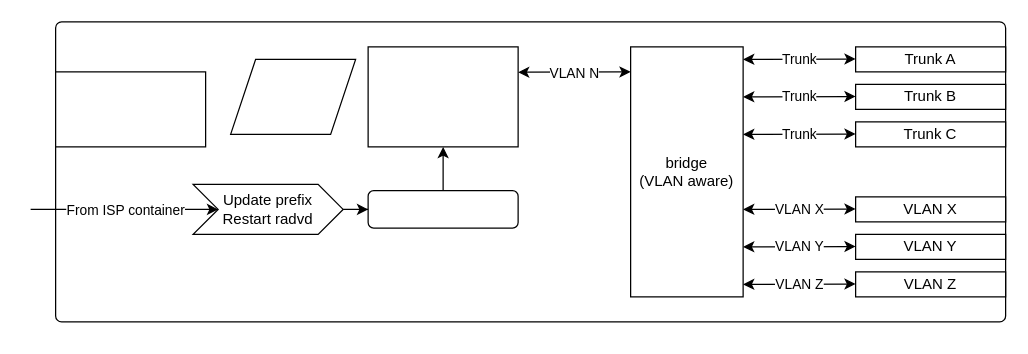
The diagram is 1028 pixels wide and 354 high, and some of its shapes have lost their labels. The box of each missing label's shape, as (x1, y1, x2, y2) in pixels:
isp_in macvlan / internal No assigned IPv4 Dynamic IPv6 GUA: (54, 71, 206, 147)
Kernel Firewall (nftables): (229, 58, 356, 134)
radvd: (367, 189, 518, 228)
VLAN N Fixed IPv4 Fixed IPv6 ULA Dynamic IPv6 GUA: (367, 46, 518, 147)
